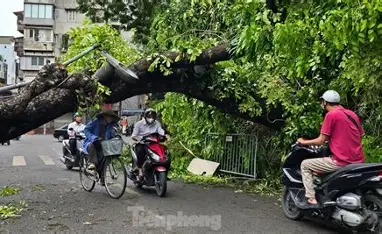ROAD_OBSTACLE: (4, 15, 378, 200)
